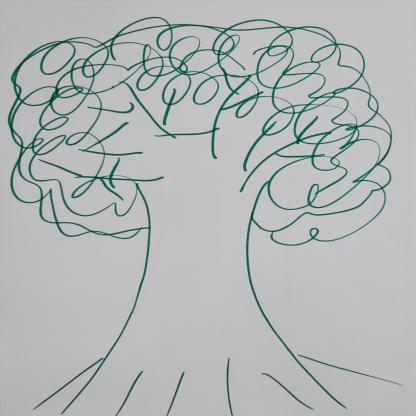crown_cloud: (9, 14, 394, 246)
root_only: (23, 338, 405, 416)
trunk_reflex: (119, 240, 281, 332)
